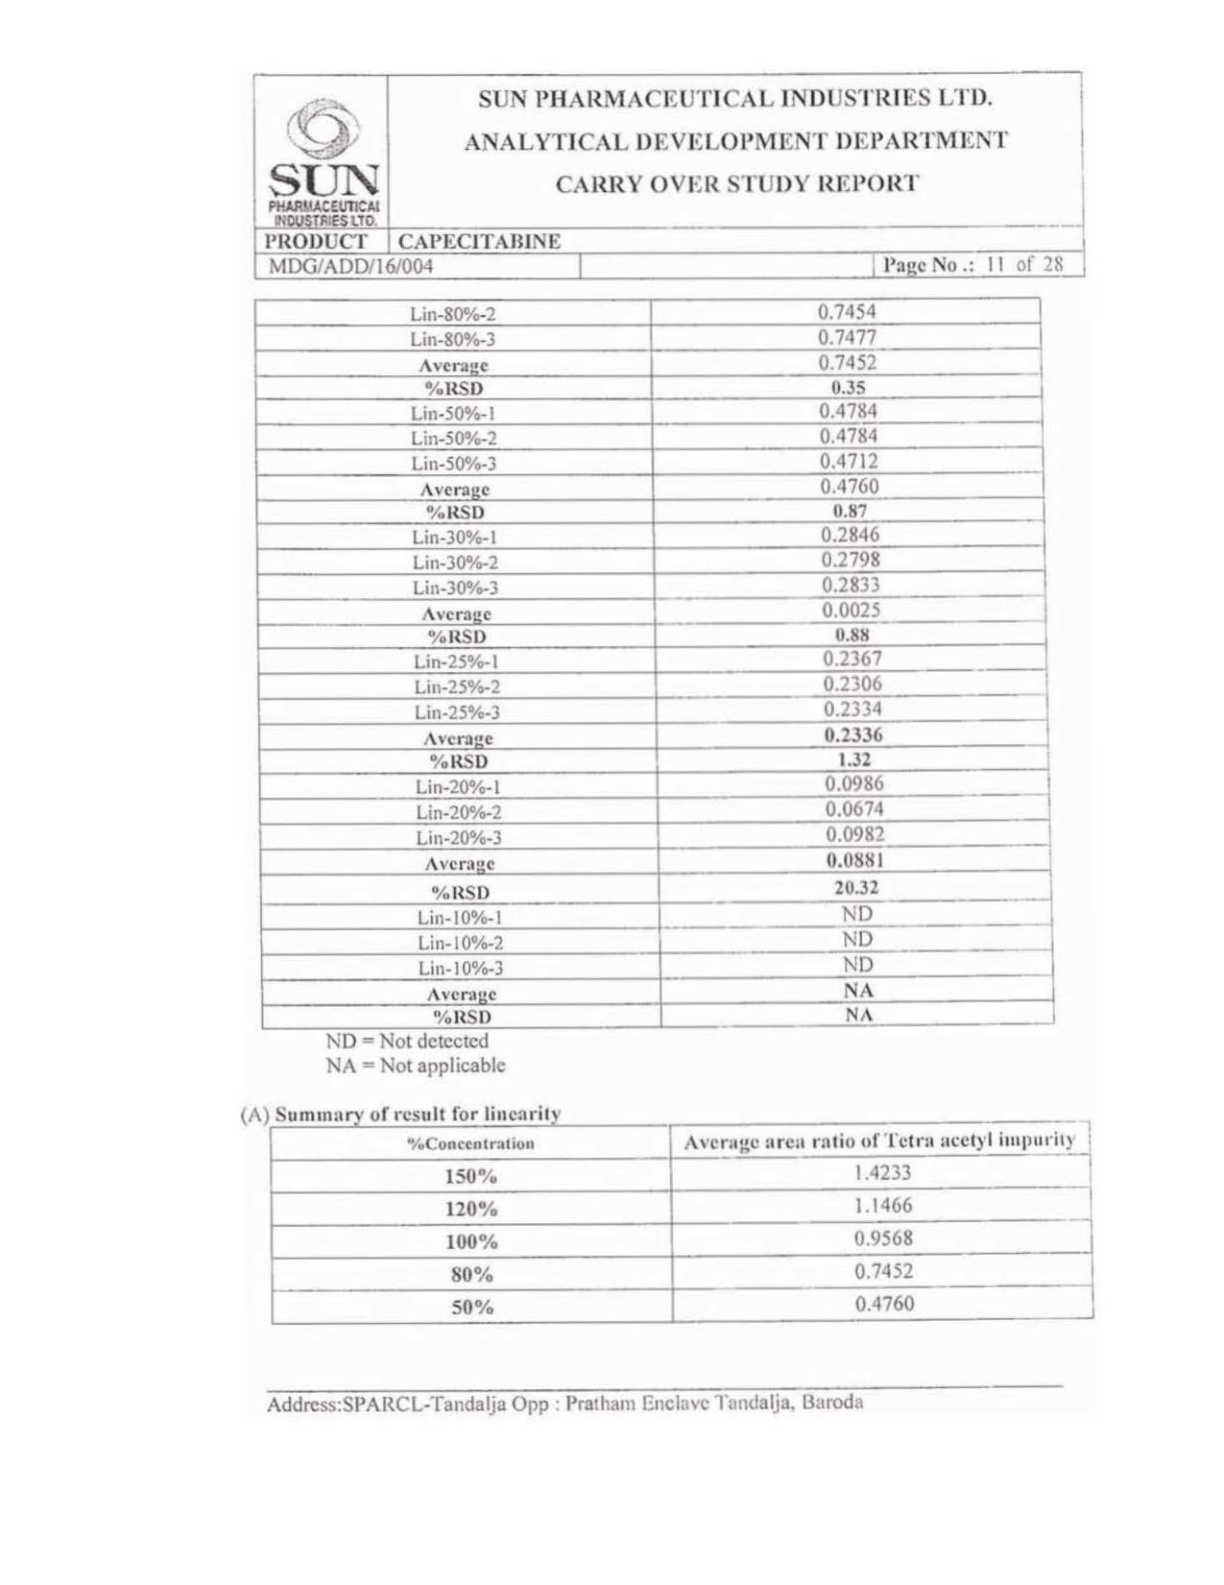full_lined: (252, 296, 1056, 1030), (267, 1118, 1095, 1327)
merged_cells: (251, 69, 1086, 280)
